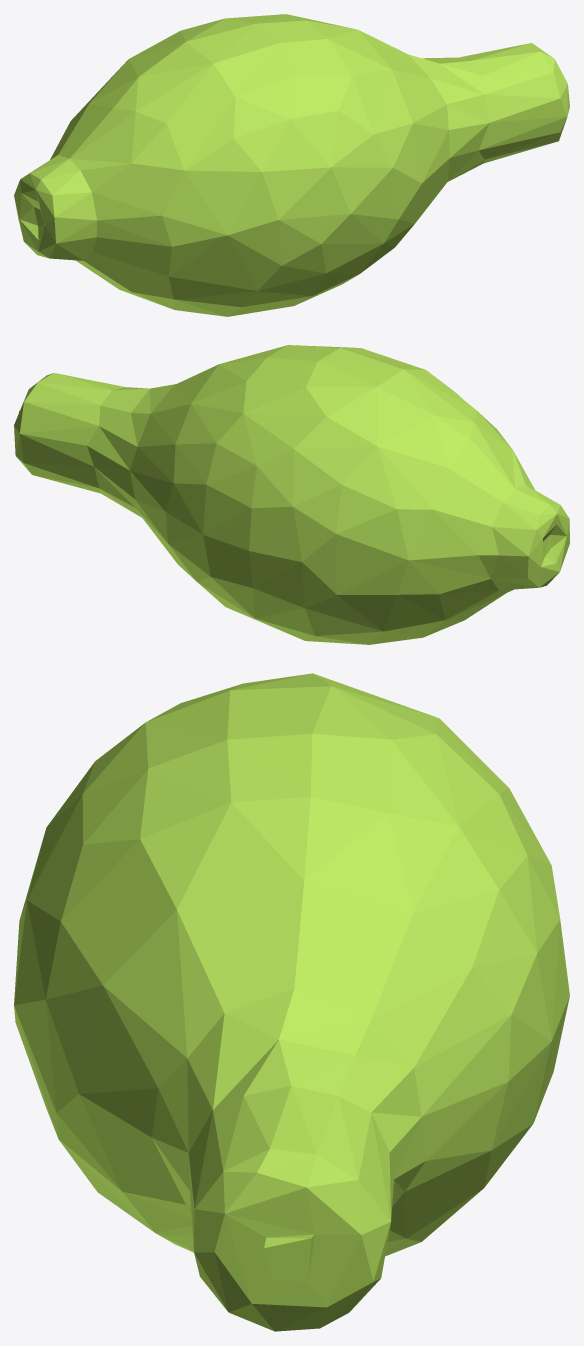
The model's file is papaya.fbx.
3 views of the same model, one above another, from view 1: azimuth 30°, elevation 25°; view 2: azimuth 150°, elevation 25°; view 3: azimuth 270°, elevation 25° (orthographic). The views are drawn at different scales.
Parts seen in each view (by area): view 1: 零件9; view 2: 零件9; view 3: 零件9.
Part boxes in pixels (x1,y1,x2,y2): 零件9: (14,14,569,316); 零件9: (14,345,569,644); 零件9: (14,673,569,1331).
Size of the model in its own units: 20627 by 9959 by 9990.
